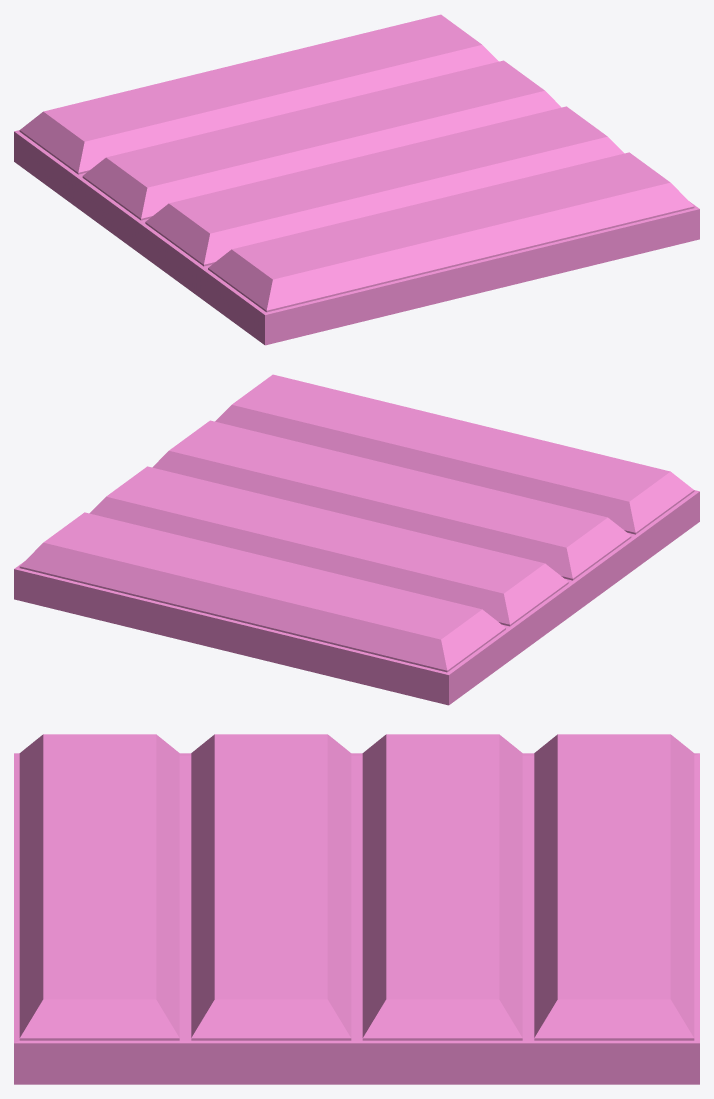
File: Bridge.fbx
3 renders of one model, top to bottom at view 1: azimuth 30°, elevation 25°; view 2: azimuth 150°, elevation 25°; view 3: azimuth 270°, elevation 25°, orthographic. The views are drawn at different scales.
Visible parts, largest first — view 1: Cube; view 2: Cube; view 3: Cube.
Part boxes in pixels (box(x1,y1,x2,y2)): Cube: box(14, 14, 699, 345); Cube: box(14, 374, 699, 705); Cube: box(14, 734, 699, 1084).
Size of the model in its own units: 200 by 23.51 by 200.
